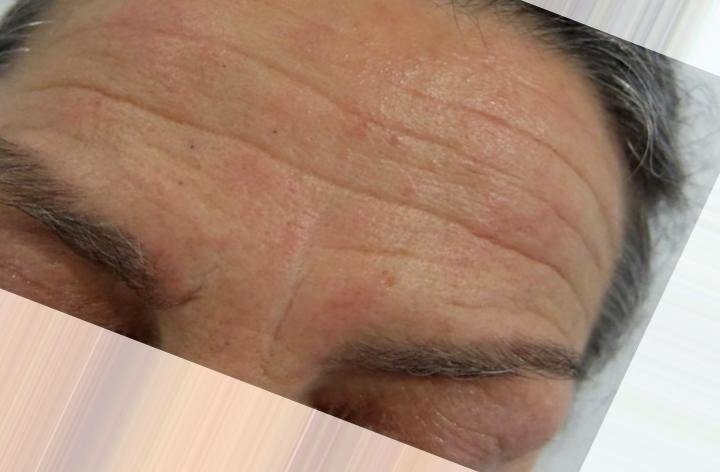Contact Dermatitis: (74, 12, 558, 268)
